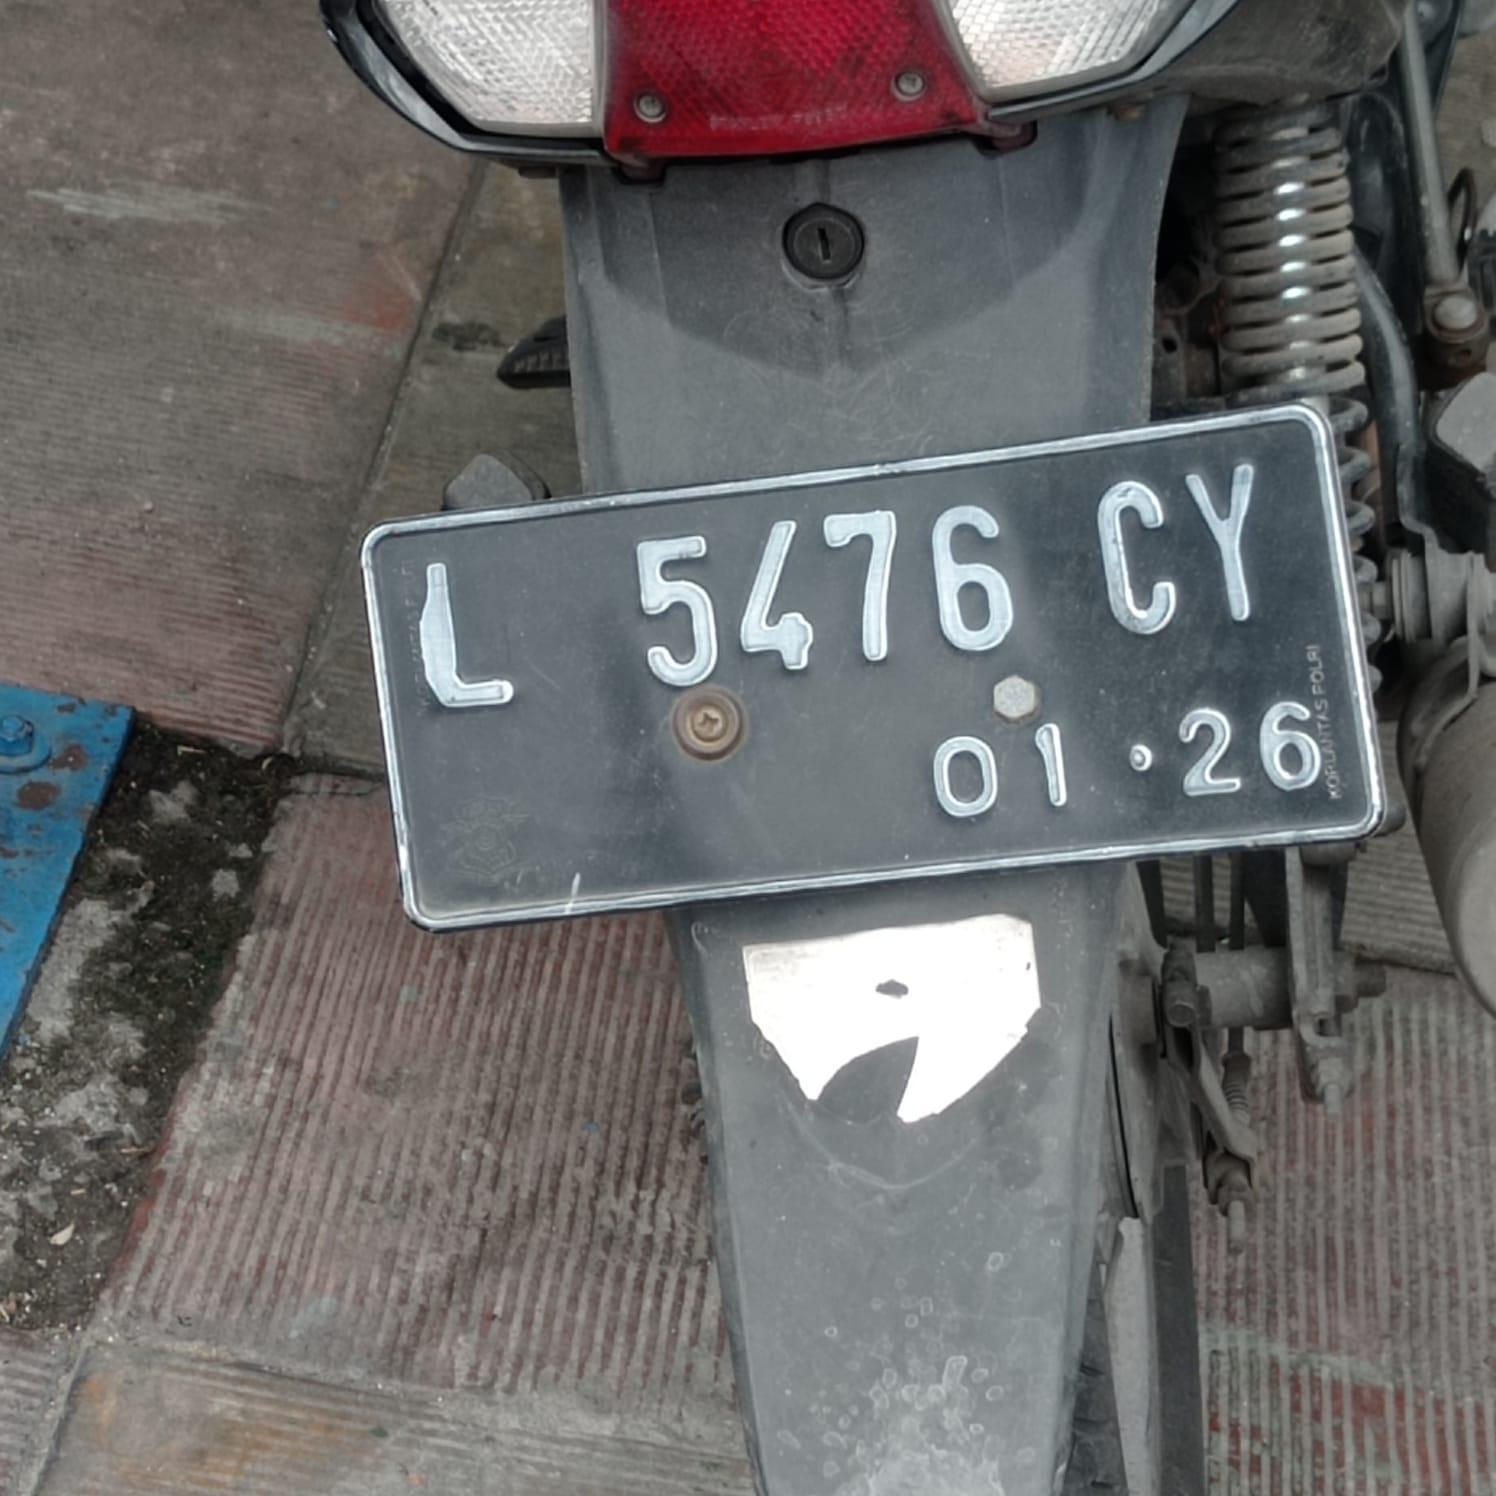plat: (362, 406, 1385, 929)
